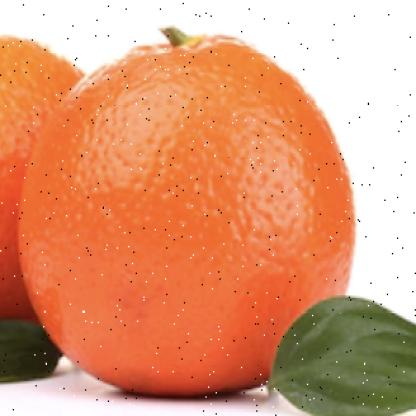fresh: (22, 37, 357, 398)
